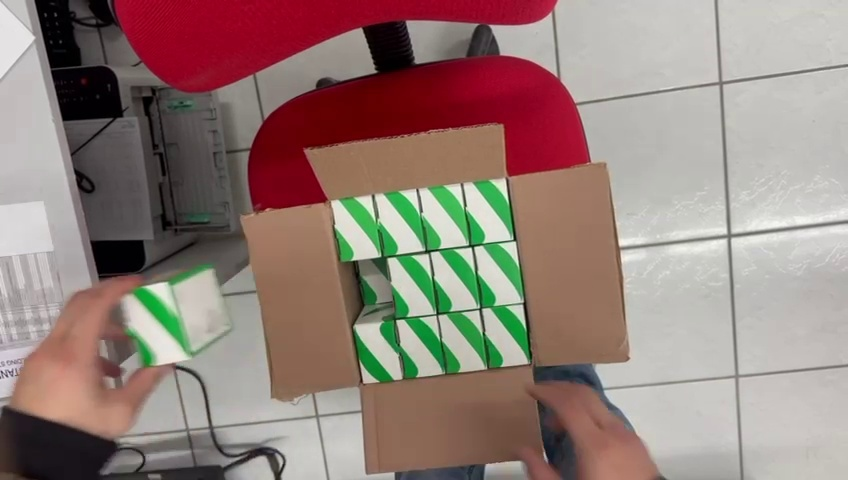divisor: (115, 258, 238, 376), (460, 174, 519, 250), (415, 182, 474, 255), (327, 192, 387, 263), (371, 188, 429, 261), (435, 305, 492, 379), (391, 314, 450, 385), (346, 319, 407, 387), (478, 302, 536, 372), (382, 251, 439, 322), (472, 239, 527, 311), (429, 244, 483, 316)
